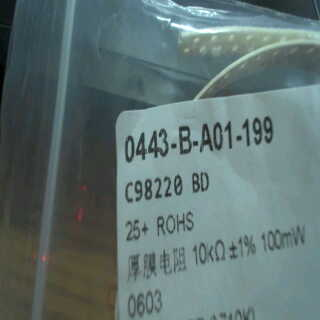10kR: (190, 234, 227, 272)
